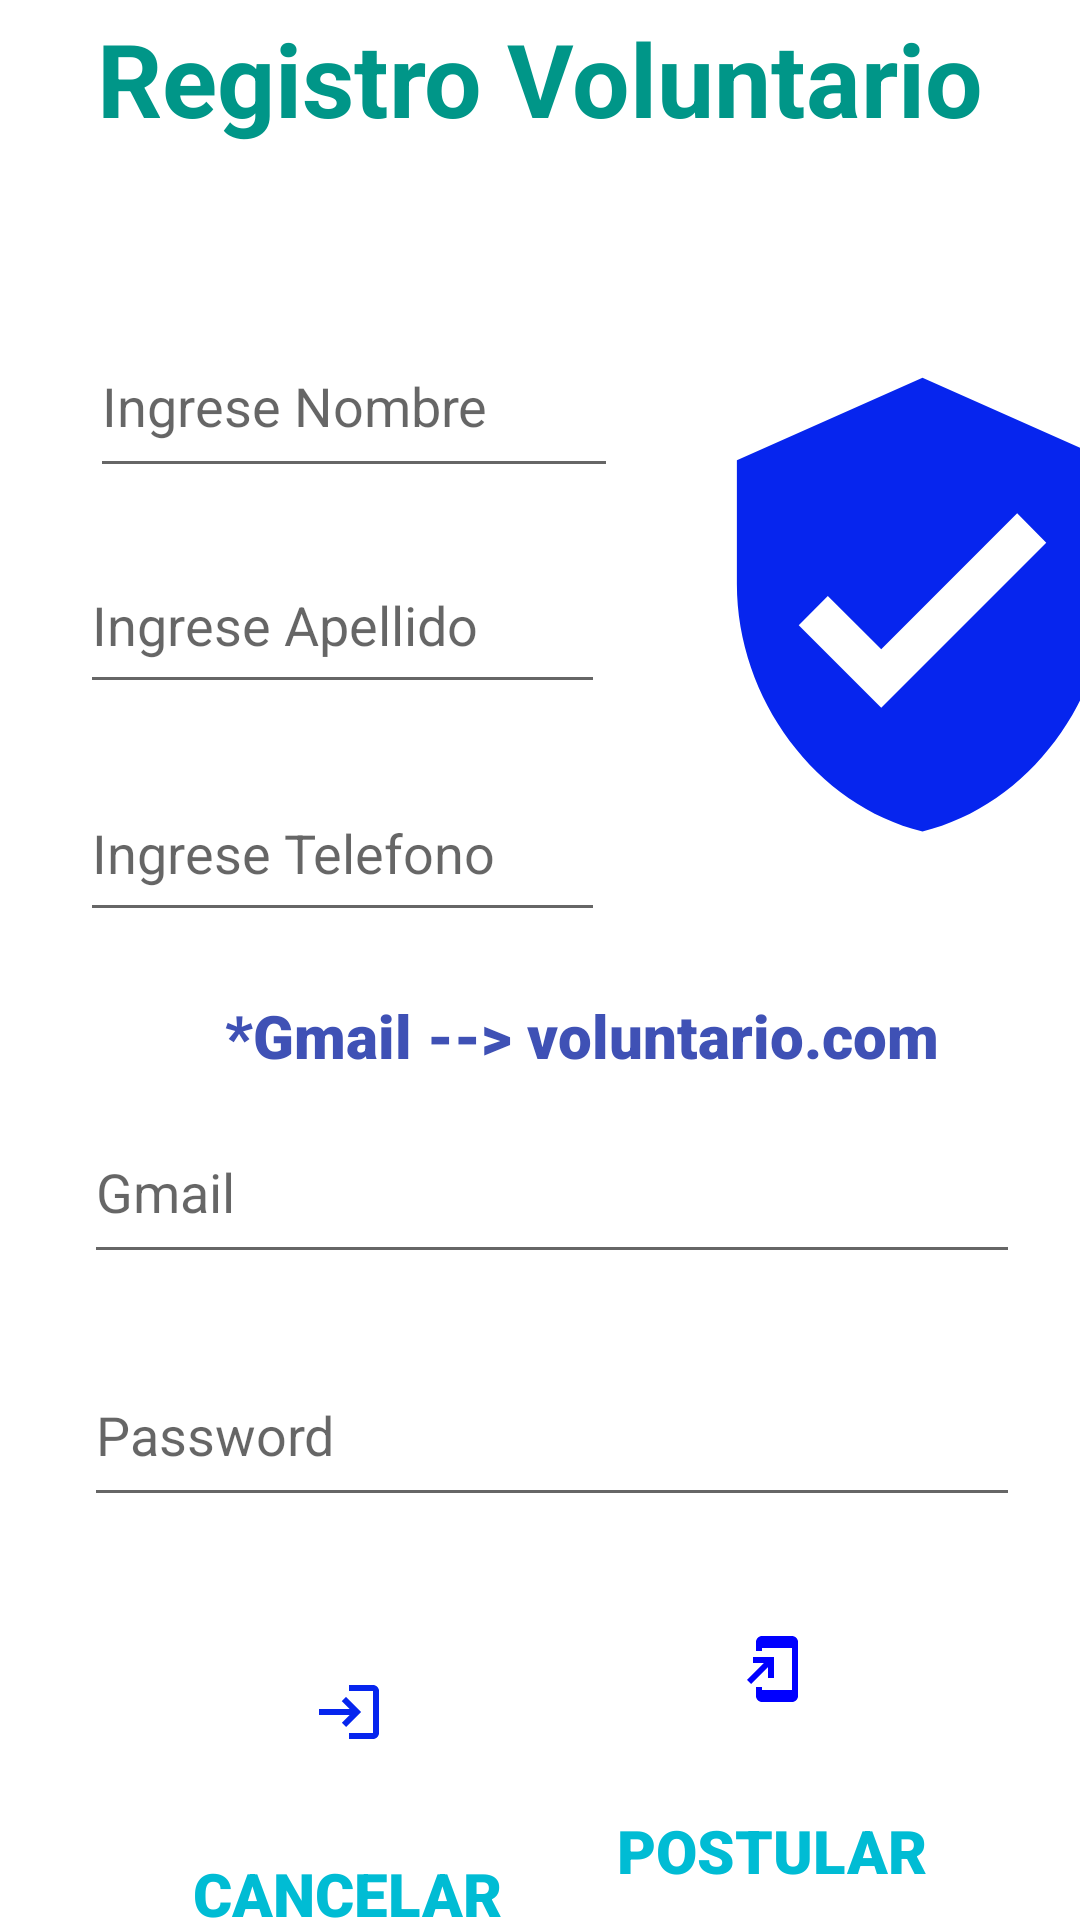

Icons on this 1080px×1920px Android screen, each with its box as bbox=[x1, y1, x2, y2]:
add to home screen: bbox=[747, 1636, 798, 1702]
login: bbox=[319, 1685, 379, 1739]
